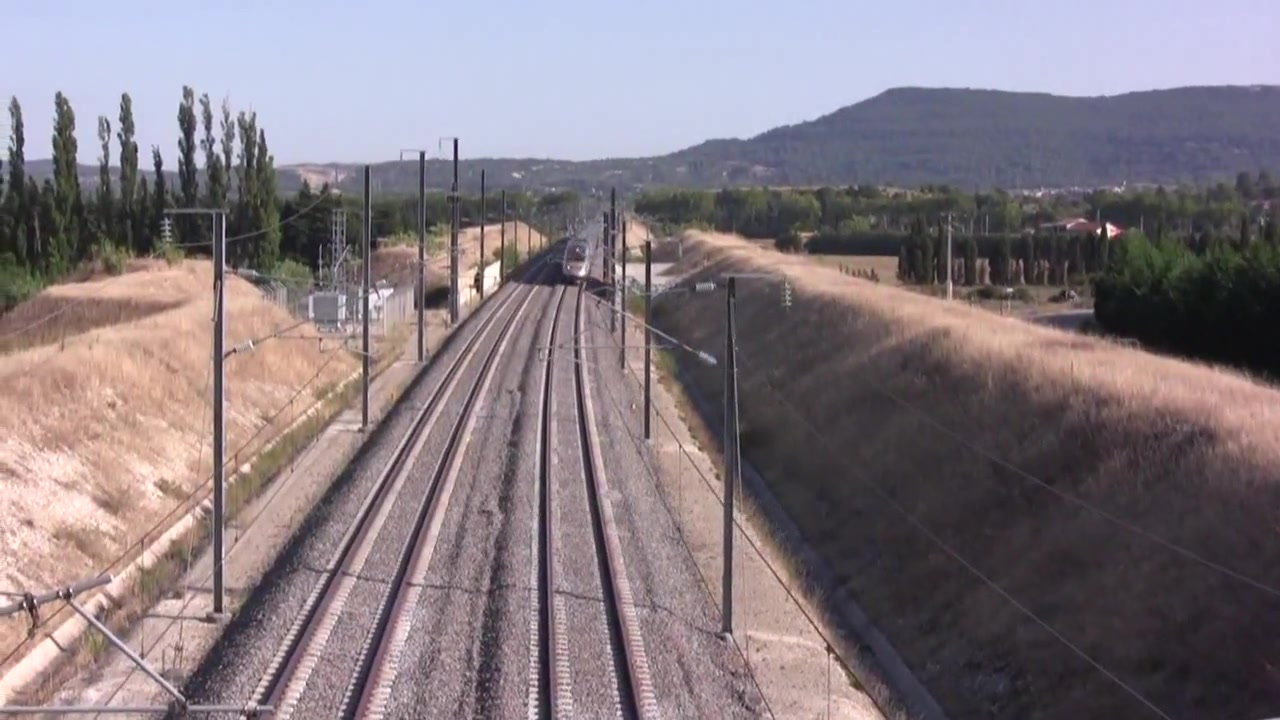train: (562, 230, 595, 290)
